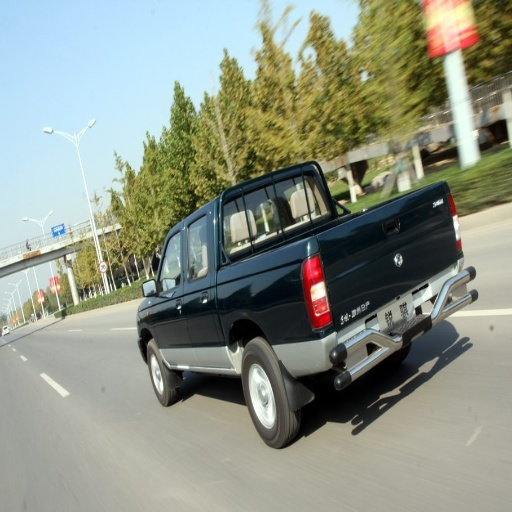trunk: (182, 266, 330, 369), (329, 224, 448, 324)
